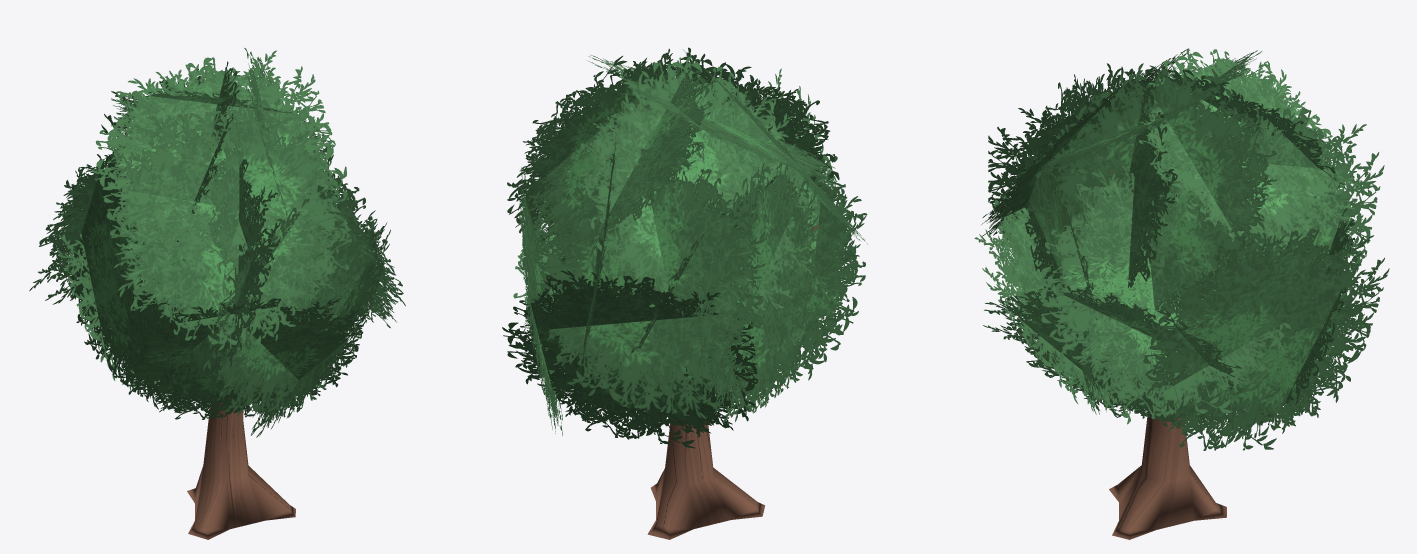
Rendered from tree.fbx.
3 views of the same model, side by side, from view 1: azimuth 30°, elevation 25°; view 2: azimuth 150°, elevation 25°; view 3: azimuth 270°, elevation 25° (orthographic). The views are drawn at different scales.
Parts seen in each view (by area): view 1: pPlane6, pPlane5, pPlane9, pPlane13, pPlane16, pCone1, pPlane1, pPlane3, pPlane12, pPlane15, pPlane14, pPlane11 (+4 smaller); view 2: pPlane15, pPlane7, pPlane11, pPlane13, pPlane4, pPlane8, pCone1, pPlane9, pPlane3, pPlane5, pPlane17, pPlane1 (+5 smaller); view 3: pPlane17, pPlane8, pPlane14, pPlane4, pPlane2, pPlane3, pCone1, pPlane12, pPlane9, pPlane16, pPlane1, pPlane7 (+3 smaller).
Boxes of the visible parts, x1,y1,x2,y2 form: pPlane6: (106, 109, 351, 349); pPlane5: (92, 50, 337, 263); pPlane9: (117, 298, 365, 419); pPlane13: (62, 154, 184, 409); pPlane16: (203, 191, 380, 415); pCone1: (187, 397, 295, 539); pPlane1: (137, 159, 280, 394); pPlane3: (204, 94, 341, 341); pPlane12: (246, 210, 390, 437); pPlane15: (29, 138, 131, 304); pPlane14: (307, 184, 405, 328); pPlane11: (57, 202, 173, 407); pPlane15: (525, 149, 766, 418); pPlane7: (581, 56, 811, 309); pPlane11: (502, 270, 758, 448); pPlane13: (693, 162, 821, 422); pPlane4: (529, 67, 712, 261); pPlane8: (507, 47, 732, 241); pCone1: (647, 225, 817, 539); pPlane9: (708, 181, 867, 416); pPlane3: (582, 59, 839, 186); pPlane5: (587, 55, 837, 181); pPlane17: (519, 167, 562, 435); pPlane1: (694, 68, 847, 351); pPlane17: (1143, 227, 1389, 450); pPlane8: (1027, 63, 1277, 318); pPlane14: (1035, 165, 1291, 418); pPlane4: (1139, 48, 1360, 245); pPlane2: (1146, 107, 1384, 293); pPlane3: (1024, 63, 1177, 341); pCone1: (1109, 170, 1226, 539); pPlane12: (983, 285, 1244, 428); pPlane9: (974, 194, 1139, 424); pPlane16: (1015, 144, 1106, 414); pPlane1: (988, 101, 1109, 240); pPlane7: (1093, 65, 1345, 189).
Bounding box in the file's own units: 13.65 × 19.37 × 16.36.
